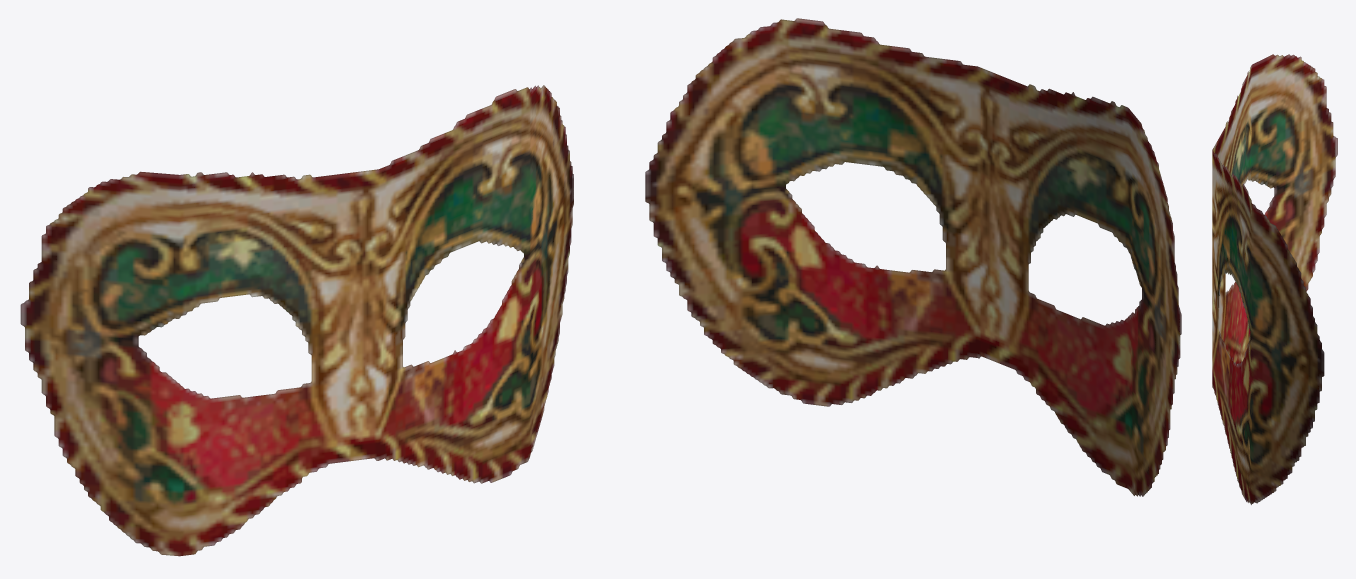
File: furni_0200770.FBX
3 views of the same model, side by side, from view 1: azimuth 30°, elevation 25°; view 2: azimuth 150°, elevation 25°; view 3: azimuth 270°, elevation 25° (orthographic). The views are drawn at different scales.
Parts seen in each view (by area): view 1: furni_0200770; view 2: furni_0200770; view 3: furni_0200770.
Part boxes in pixels (x1=…): furni_0200770: x1=20, y1=85, x2=573, y2=556; furni_0200770: x1=645, y1=18, x2=1181, y2=496; furni_0200770: x1=1212, y1=54, x2=1337, y2=504.
Bounding box in the file's own units: 48.08 × 32.08 × 11.58.
Materials: 1 (1 with a texture image).
